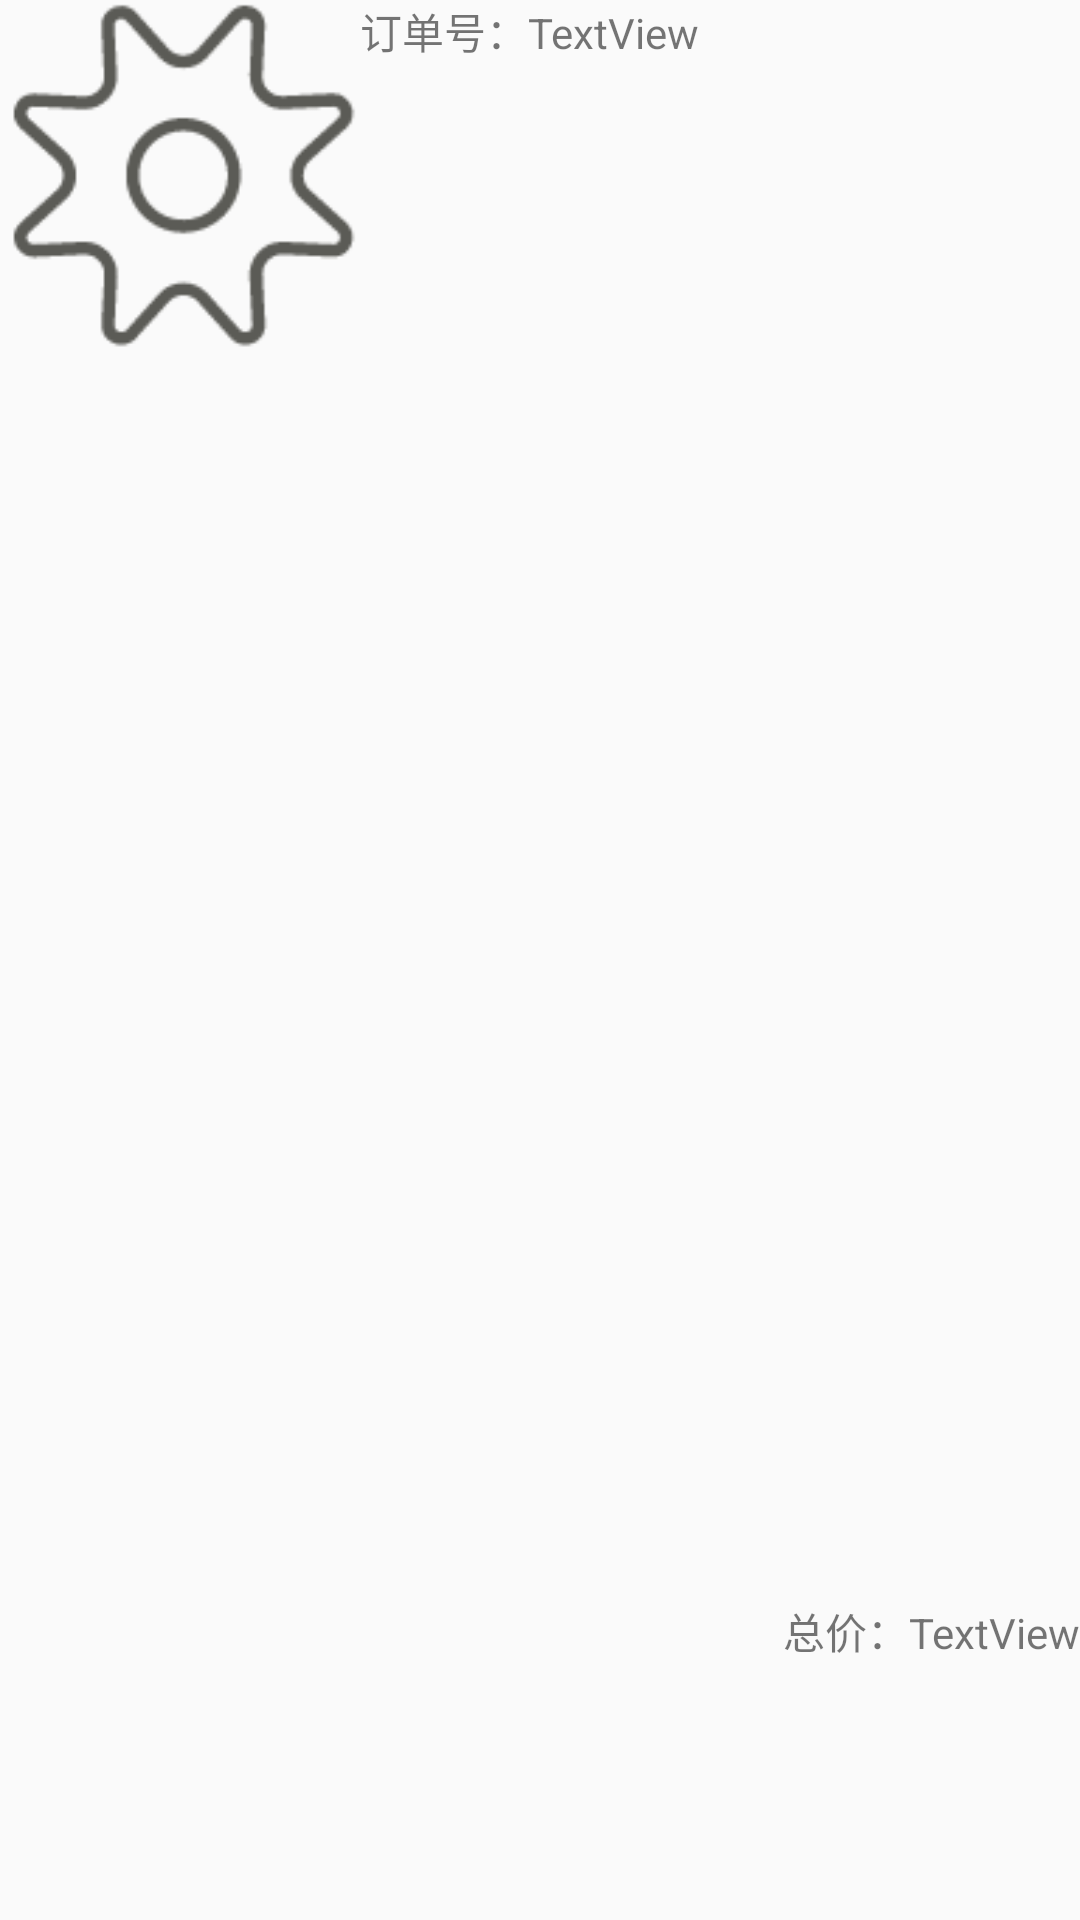

Screen size 1080w x 1920h. Icon name, then its box in pixels as (x1, y1, x2, y2):
set: (13, 5, 355, 347)
